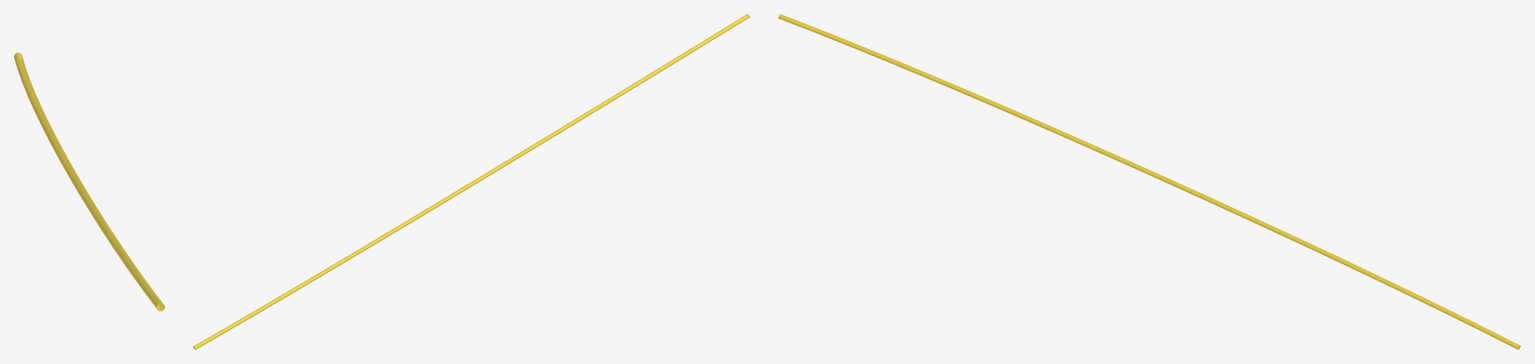
Rendered from Event_419990632_track_30.fbx.
The picture shows the model from 3 angles, left to right: view 1: azimuth 90°, elevation 25°; view 2: azimuth 210°, elevation 25°; view 3: azimuth 330°, elevation 25°; orthographic projection. The views are drawn at different scales.
Parts seen in each view (by area): view 1: Model; view 2: Model; view 3: Model.
Part boxes in pixels (x1,y1,x2,y2): Model: (14, 52, 164, 311); Model: (193, 14, 749, 349); Model: (778, 14, 1520, 349).
Size of the model in its own units: 6.49 by 1.74 by 0.7187.
